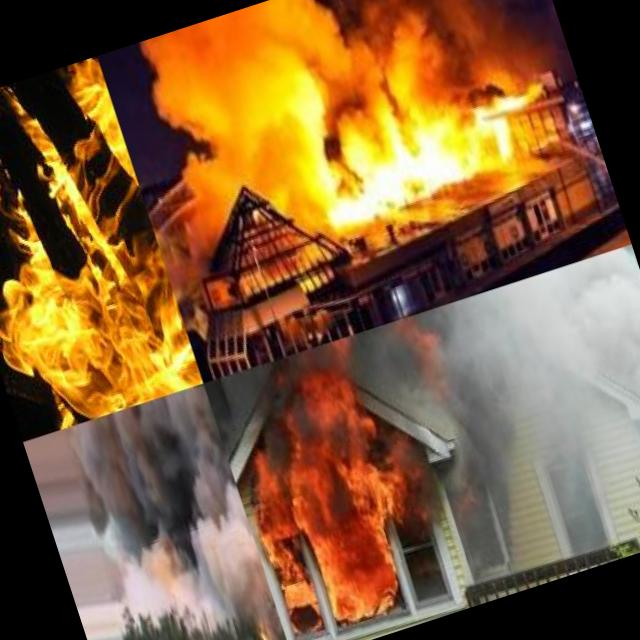fire: (0, 55, 204, 441), (228, 398, 446, 636), (315, 86, 545, 235), (285, 332, 383, 418), (378, 309, 458, 412), (255, 625, 282, 640)
smoke: (148, 0, 559, 196), (414, 244, 640, 551), (382, 389, 542, 591), (130, 0, 341, 99), (162, 506, 274, 630), (261, 154, 338, 246), (173, 180, 251, 260), (326, 0, 478, 37)
